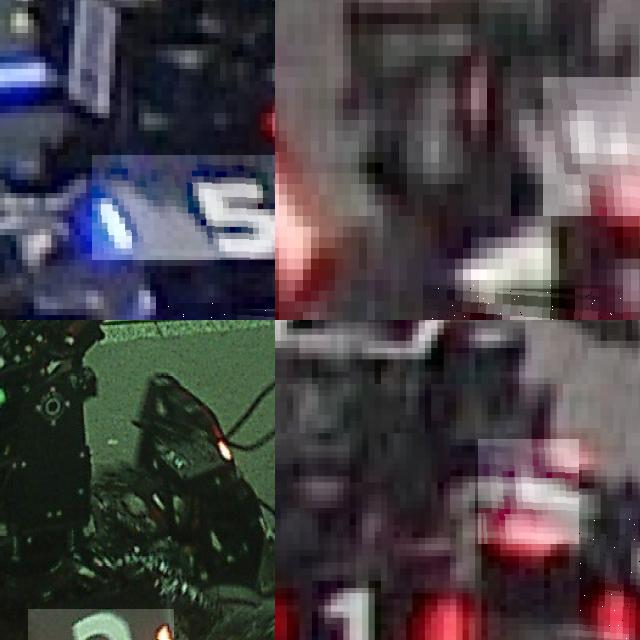B5: (92, 155, 275, 259)
R1: (275, 565, 484, 640), (478, 439, 579, 544), (578, 519, 640, 640)
R3: (543, 77, 640, 215), (423, 285, 623, 320), (28, 609, 174, 640)
